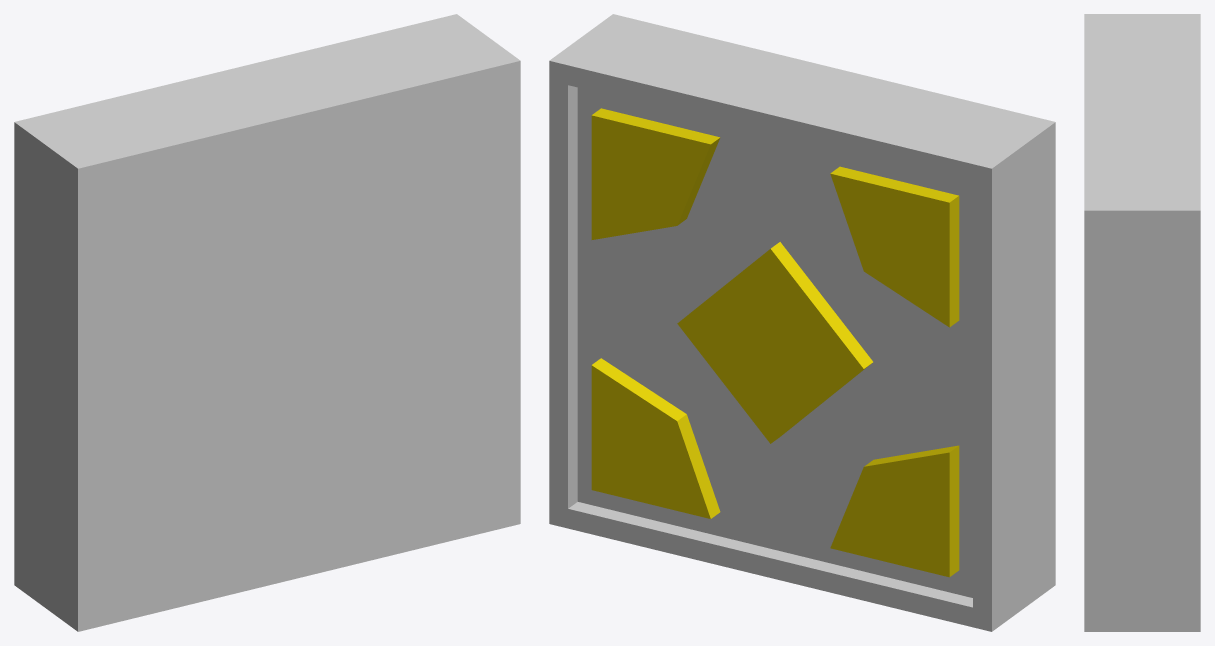
File: PusherWall.fbx
The picture shows the model from 3 angles, left to right: view 1: azimuth 30°, elevation 25°; view 2: azimuth 150°, elevation 25°; view 3: azimuth 270°, elevation 25°; orthographic projection. The views are drawn at different scales.
Visible parts, largest first — view 1: PusherWall; view 2: PusherWall; view 3: PusherWall.
Part boxes in pixels (x1,y1,x2,y2): PusherWall: (14,14,520,631); PusherWall: (549,14,1055,631); PusherWall: (1084,14,1200,631).
Bounding box in the file's own units: 200 × 200 × 50.
